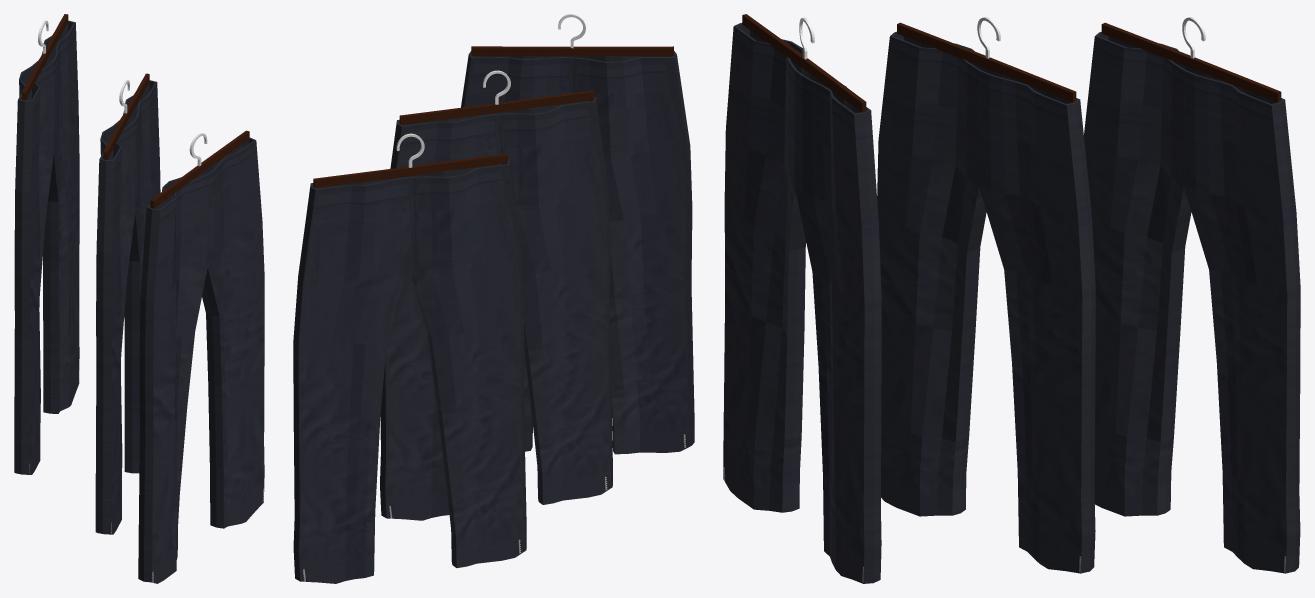
The model's file is chinonavy1.glb.
3 views of the same model, side by side, from view 1: azimuth 30°, elevation 25°; view 2: azimuth 150°, elevation 25°; view 3: azimuth 270°, elevation 25° (orthographic). The views are drawn at different scales.
Parts seen in each view (by area): view 1: Plane.324; view 2: Plane.324; view 3: Plane.324.
Part boxes in pixels (x1,y1,x2,y2): Plane.324: (14, 14, 264, 583); Plane.324: (293, 14, 694, 583); Plane.324: (723, 14, 1300, 583).
Bounding box in the file's own units: 0.2095 × 0.4706 × 0.4739.
3 materials, 3 textured.
